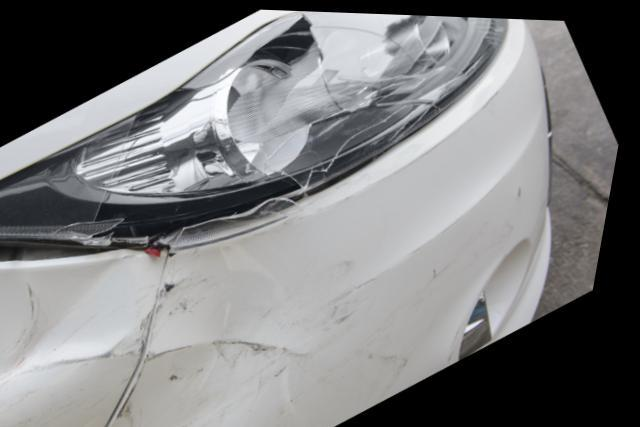dent: (129, 231, 349, 427), (0, 250, 173, 421)
lamp broken: (0, 9, 508, 254)
scratch: (12, 370, 116, 427)
